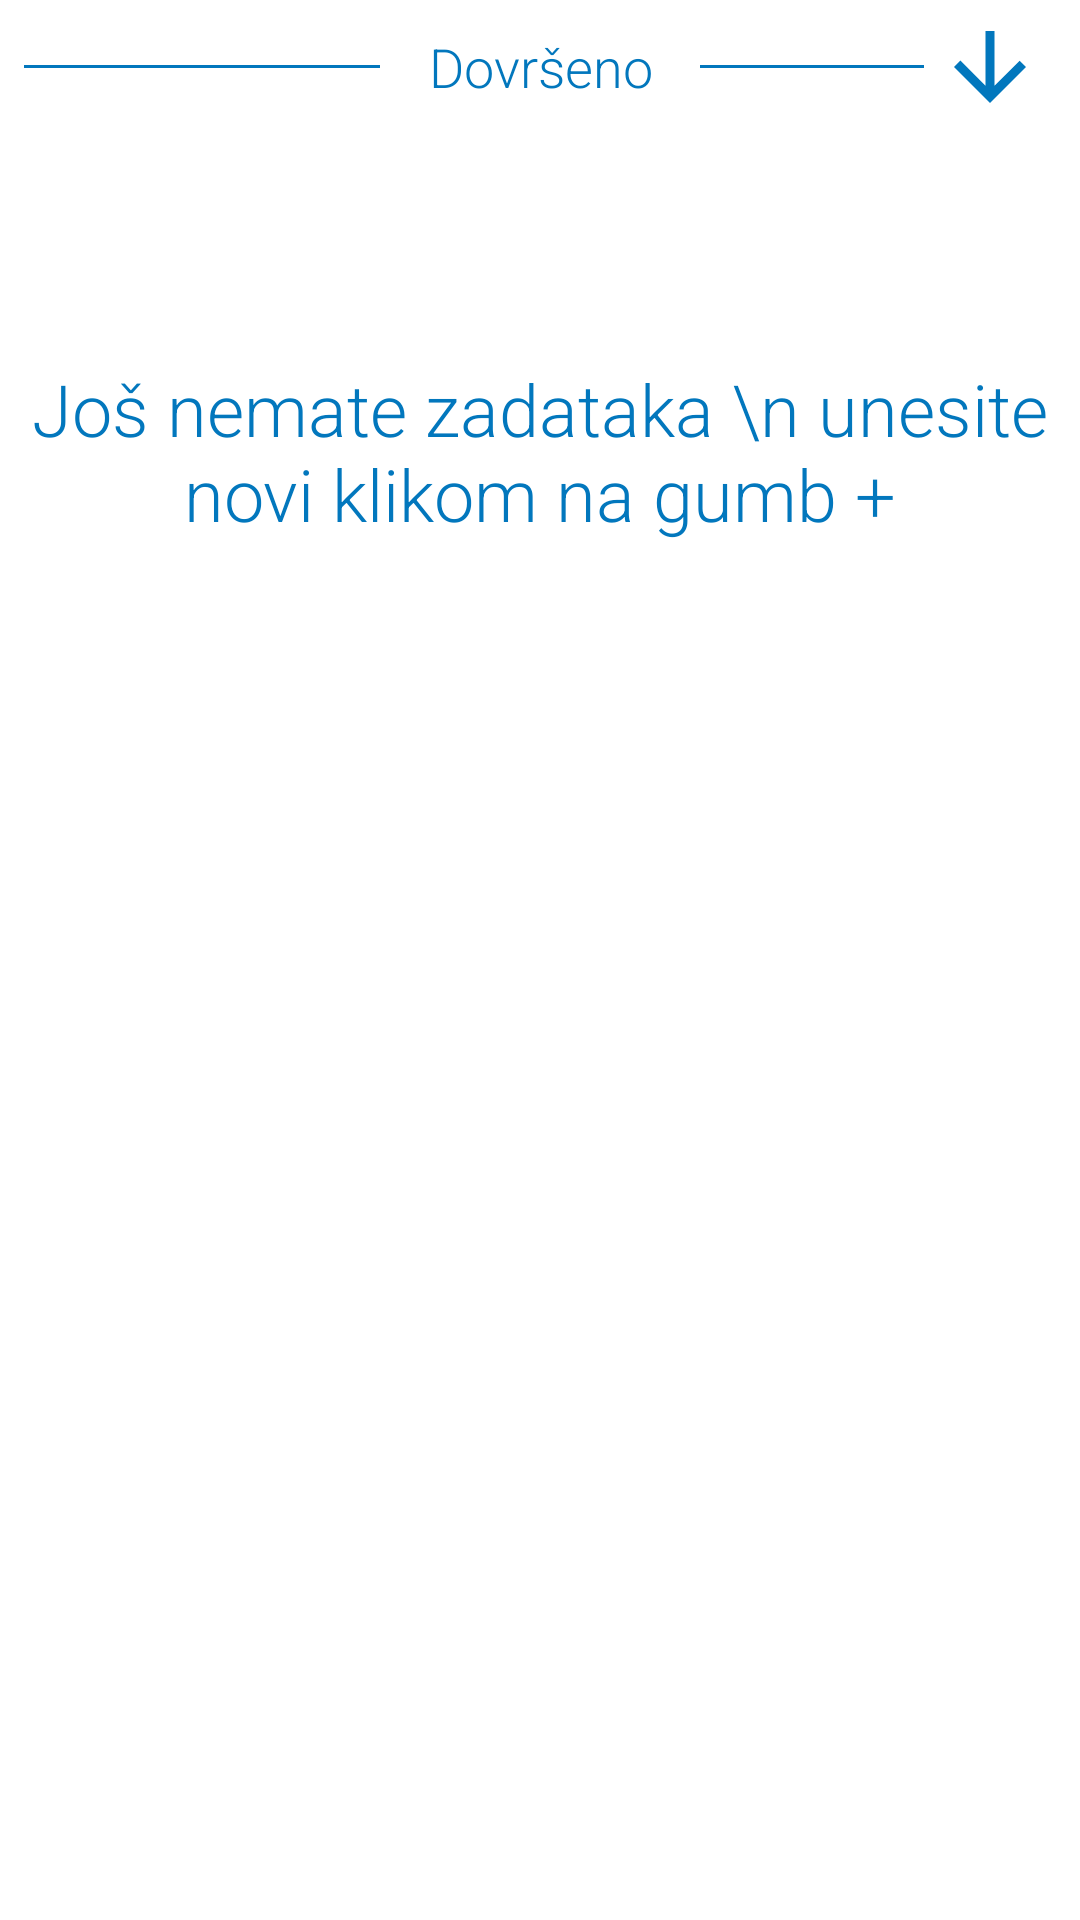

Icons on this 1080w x 1920h Android screen, each with its box as (x1, y1, x2, y2):
arrow downward: (954, 31, 1026, 103)
